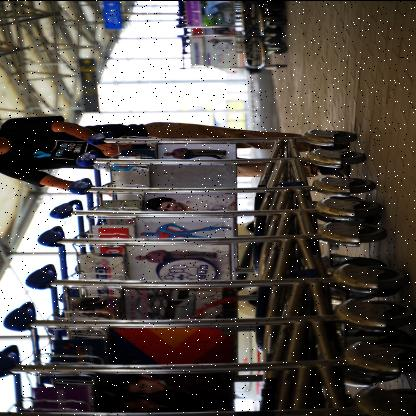airport-trolley: (0, 344, 416, 392), (16, 263, 406, 308), (39, 228, 392, 274), (1, 304, 416, 341), (48, 202, 387, 232), (72, 150, 372, 181), (65, 178, 373, 204), (83, 130, 355, 156), (176, 32, 290, 71), (175, 0, 287, 32)
